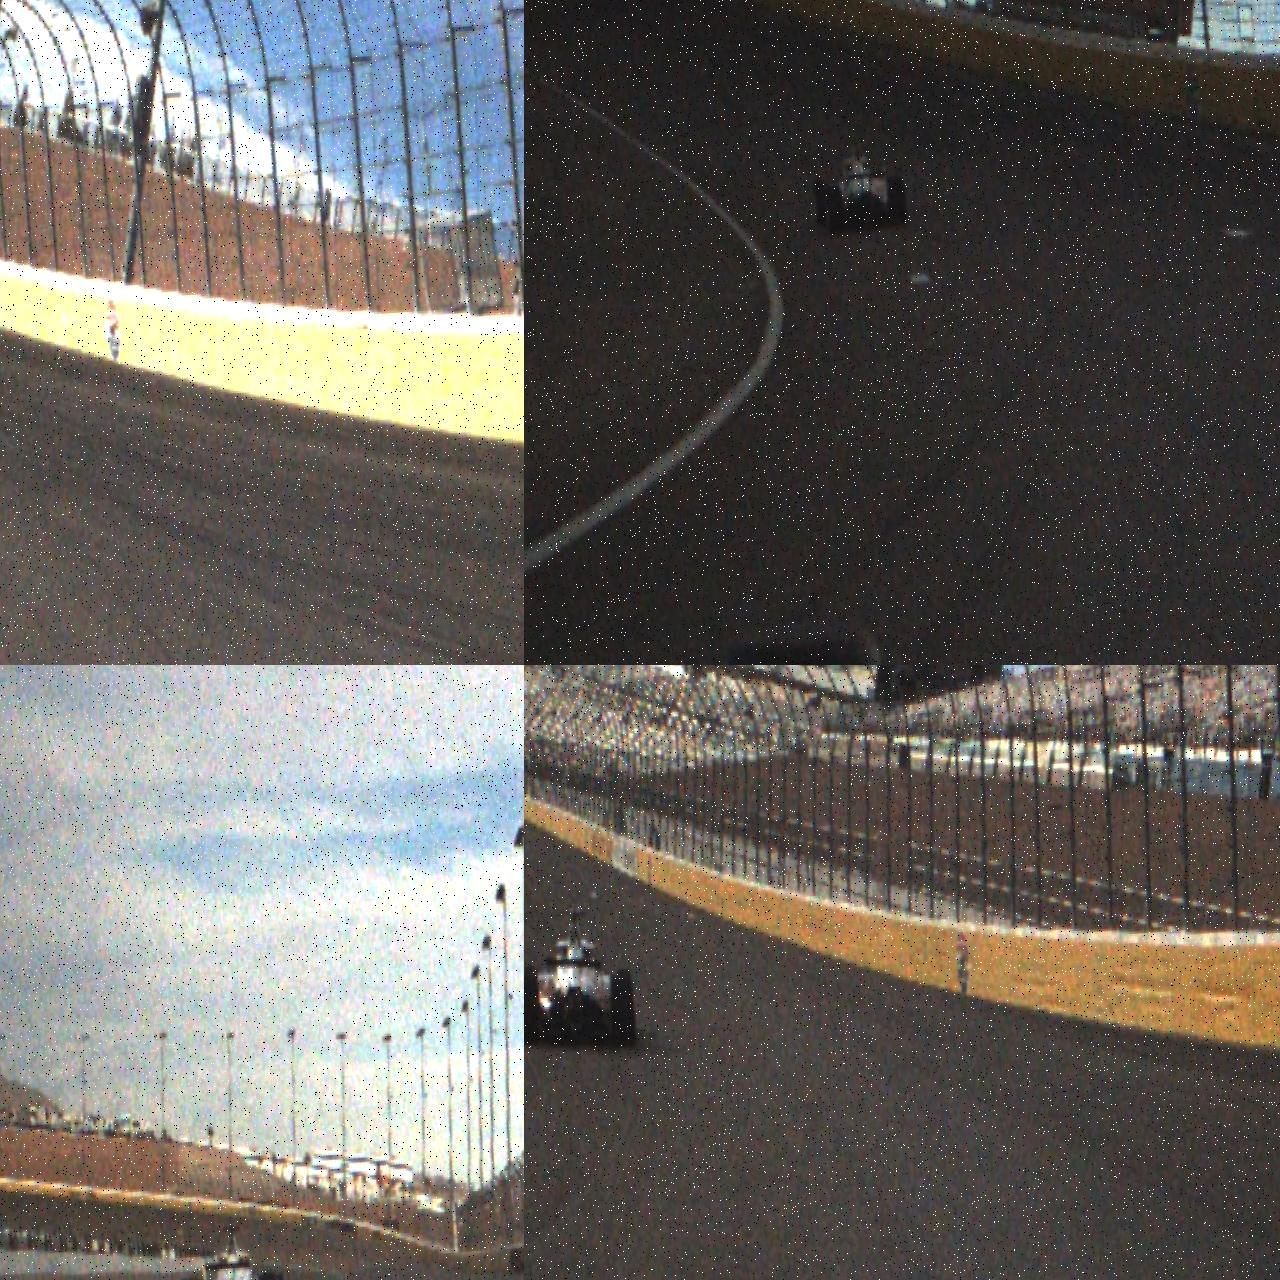AV: (524, 903, 638, 1055), (810, 134, 908, 237), (176, 1223, 290, 1280)
Wheel: (610, 972, 638, 1047), (524, 972, 543, 1047), (888, 176, 908, 227), (825, 184, 844, 236), (813, 181, 831, 225)
